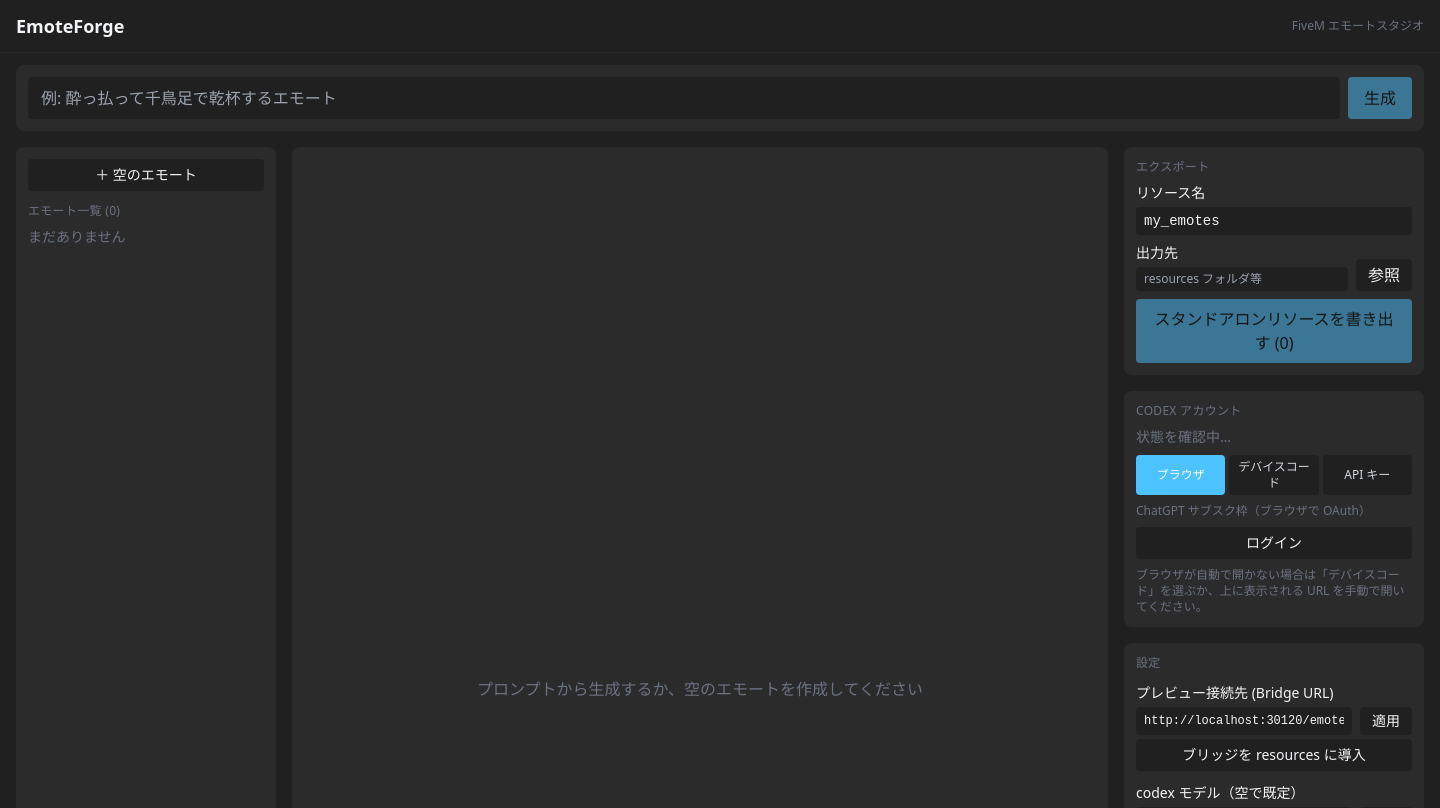
Test: App › shows validation issues from edits
The width and height of the screenshot is (1440, 808).
Type "x" into the field named "prompt" at (684, 98), box [28, 77, 1340, 119]
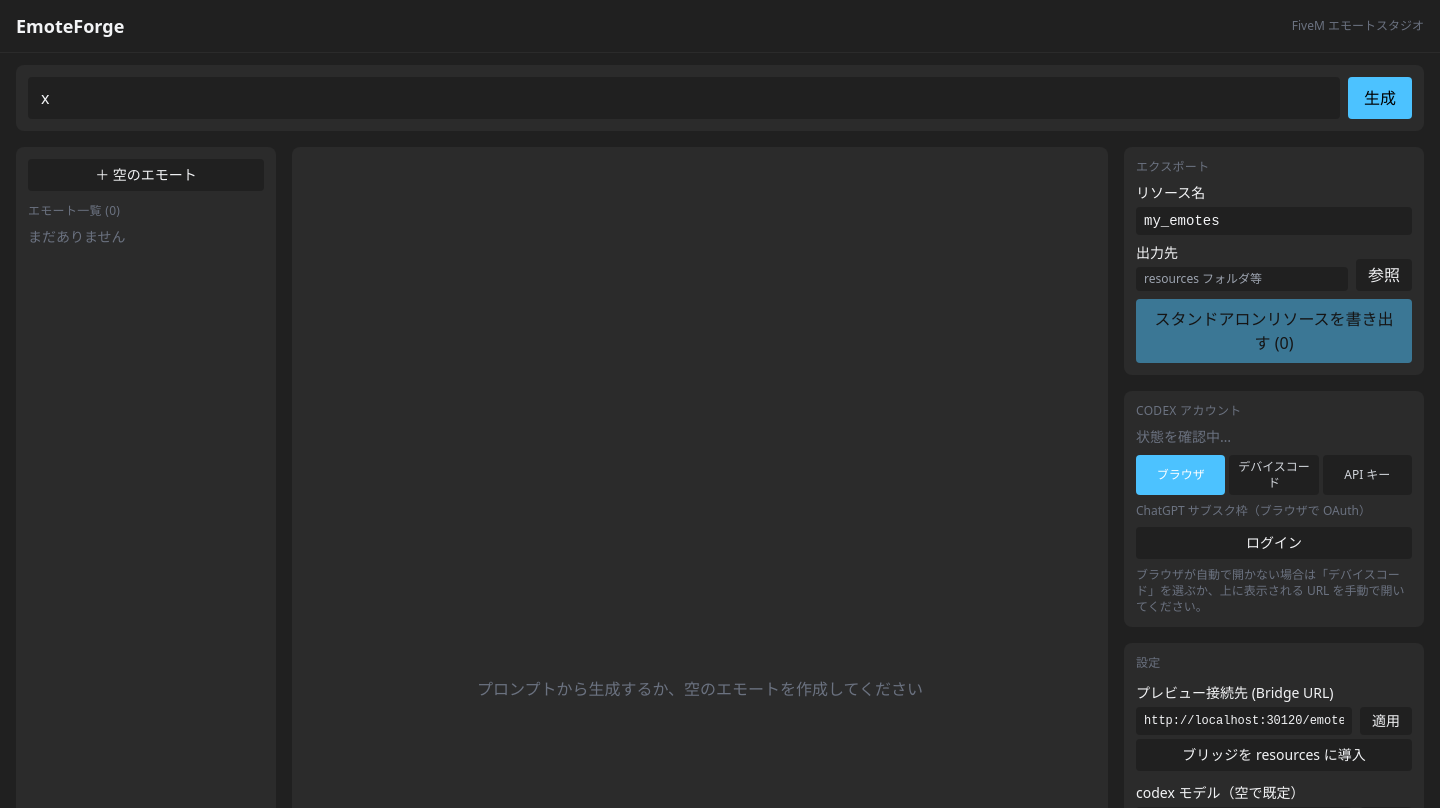
Click the button "生成" at (1380, 98), box [1348, 77, 1412, 119]
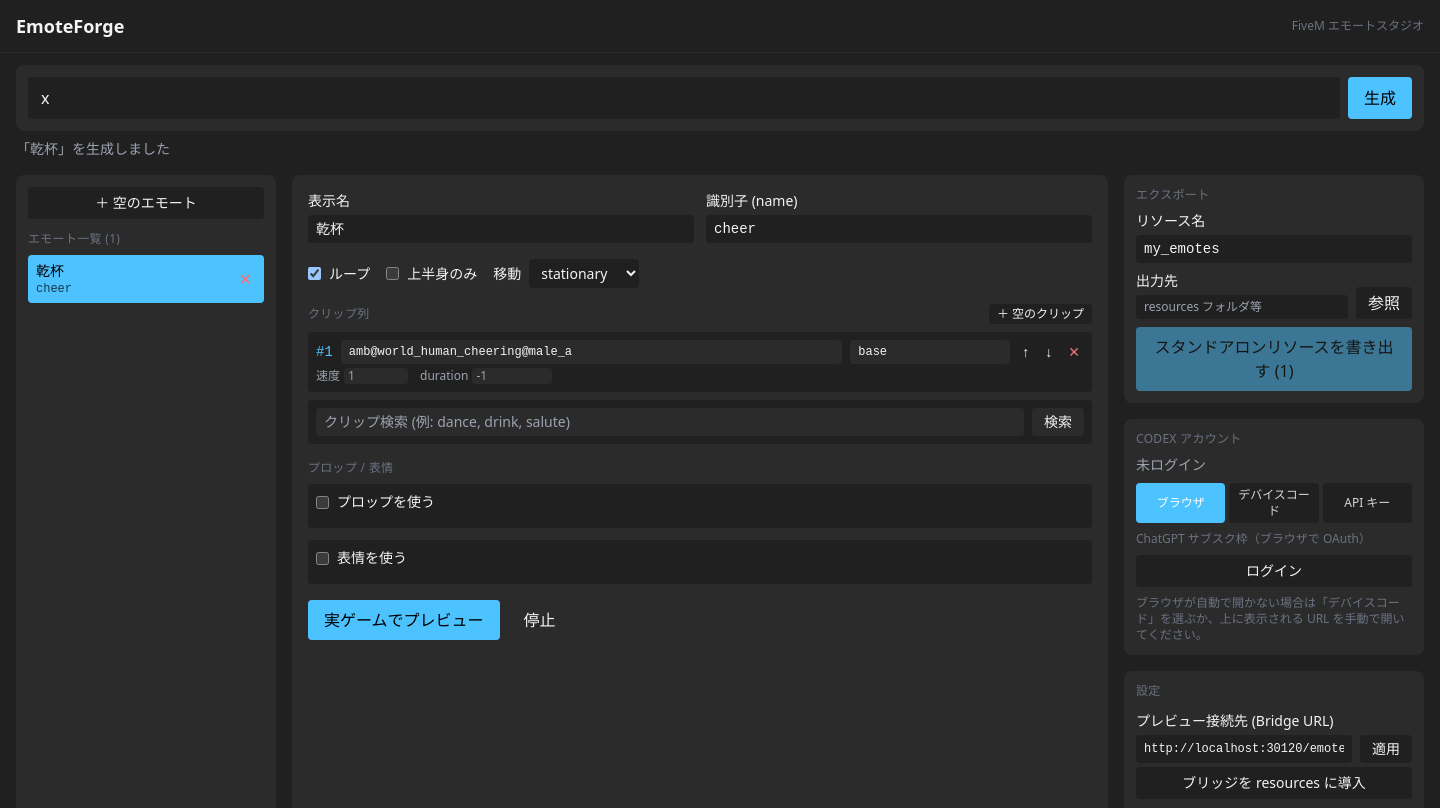
Check: the field showing "乾杯" is shown, box [308, 215, 694, 243]
Replace the text in the field labelled "name" with "renamed" at (899, 229), box [706, 215, 1092, 243]
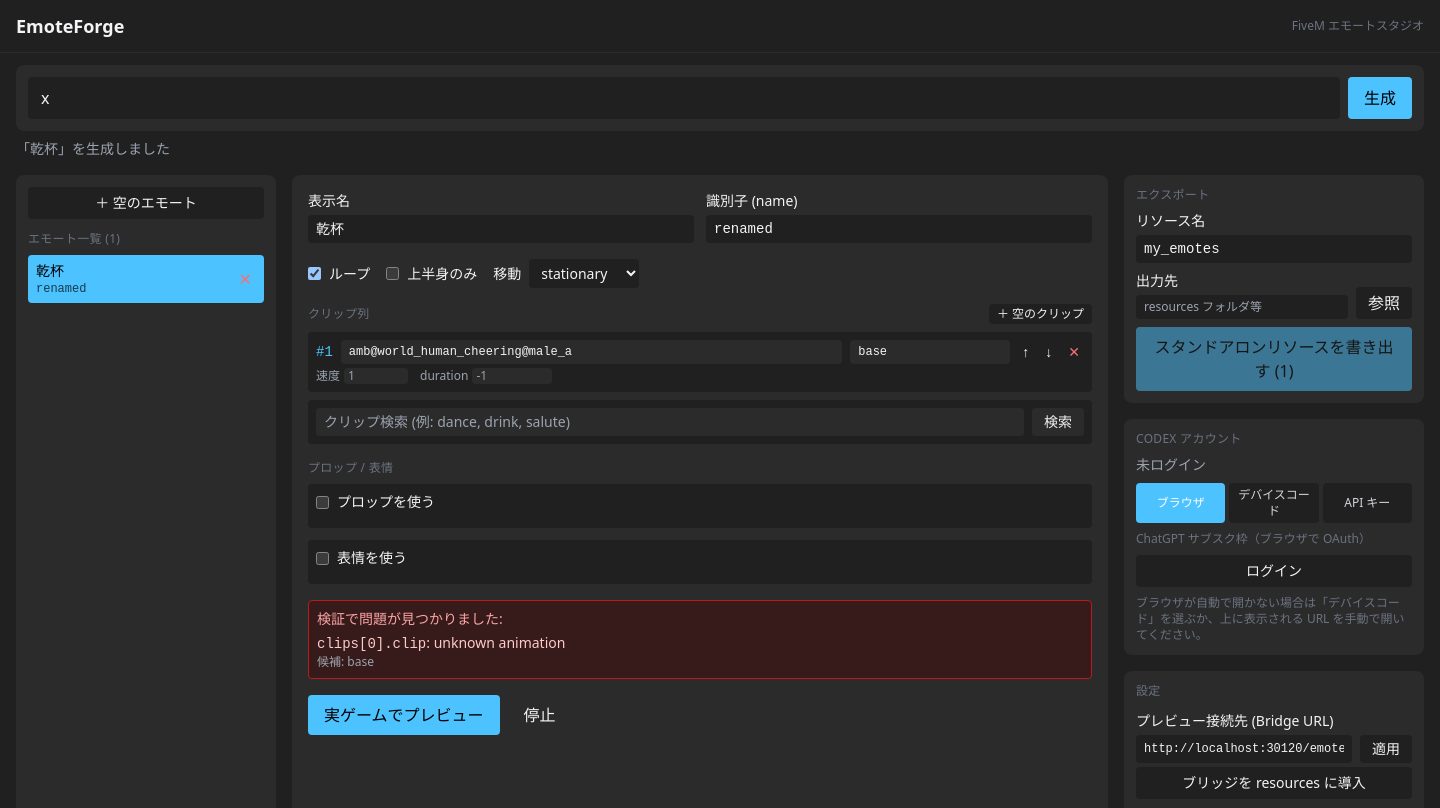
Check: the list item "clips[0].clip: unknown animation 候補: base" is shown, box [317, 633, 565, 670]
